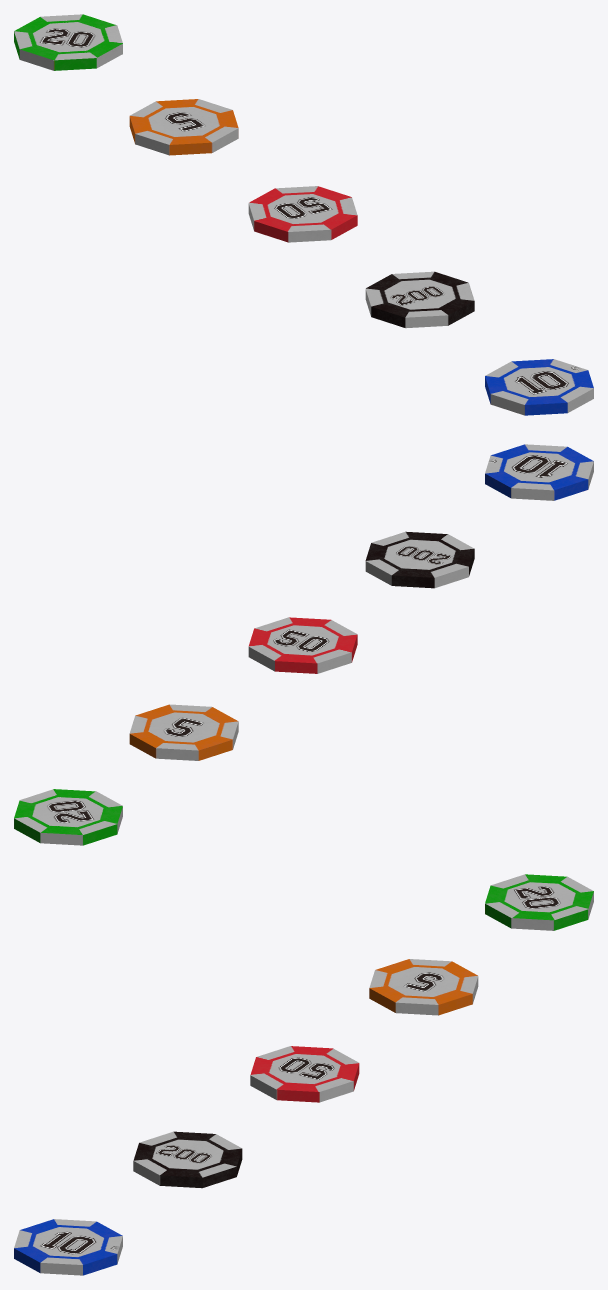
File: Chips.fbx
The picture shows the model from 3 angles, top to bottom: view 1: azimuth 30°, elevation 25°; view 2: azimuth 150°, elevation 25°; view 3: azimuth 330°, elevation 25°; orthographic projection.
Parts seen in each view (by area): view 1: chip_red, chip_orange, chip_black, chip_blue, chip_green; view 2: chip_red, chip_orange, chip_black, chip_blue, chip_green; view 3: chip_red, chip_orange, chip_black, chip_blue, chip_green.
Boxes of the visible parts, x1=… form: chip_red: x1=248, y1=186, x2=357, y2=242; chip_orange: x1=129, y1=99, x2=238, y2=155; chip_black: x1=365, y1=271, x2=474, y2=328; chip_blue: x1=485, y1=359, x2=593, y2=415; chip_green: x1=14, y1=14, x2=122, y2=70; chip_red: x1=248, y1=617, x2=357, y2=673; chip_orange: x1=129, y1=704, x2=238, y2=760; chip_black: x1=365, y1=531, x2=474, y2=588; chip_blue: x1=485, y1=444, x2=593, y2=500; chip_green: x1=14, y1=789, x2=122, y2=845; chip_red: x1=250, y1=1046, x2=359, y2=1102; chip_orange: x1=369, y1=959, x2=478, y2=1015; chip_black: x1=133, y1=1131, x2=242, y2=1188; chip_blue: x1=14, y1=1219, x2=122, y2=1275; chip_green: x1=485, y1=874, x2=593, y2=930.
Bounding box in the file's own units: 6.29 × 0.6461 × 58.73.
Materials: 1 (1 with a texture image).
